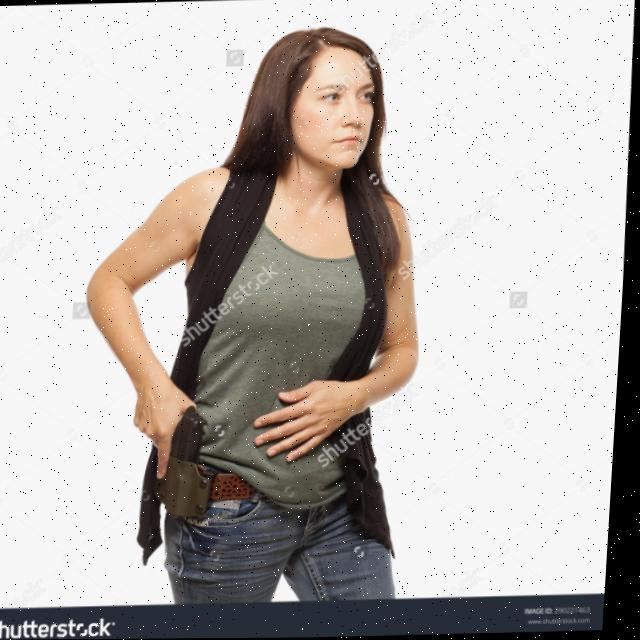pistol: (173, 404, 212, 465)
